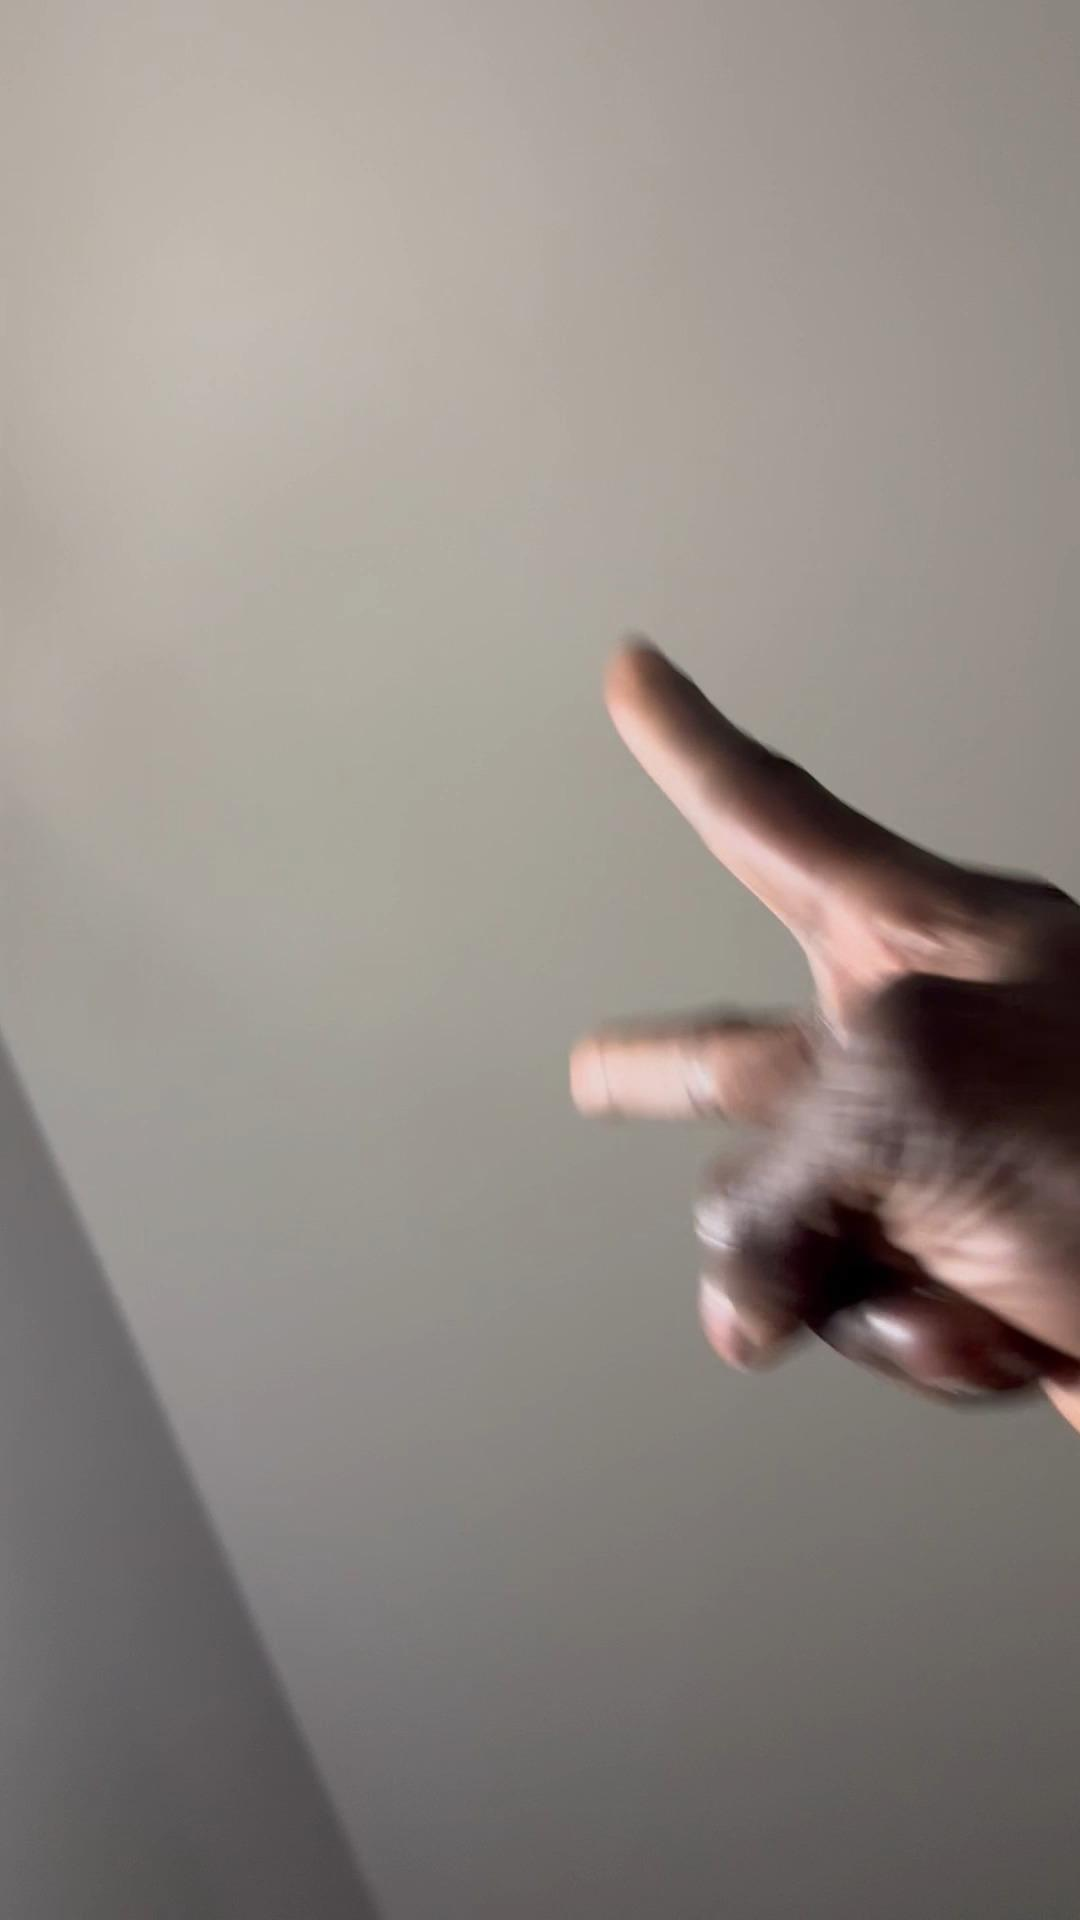Scissors: (563, 624, 1080, 1452)
